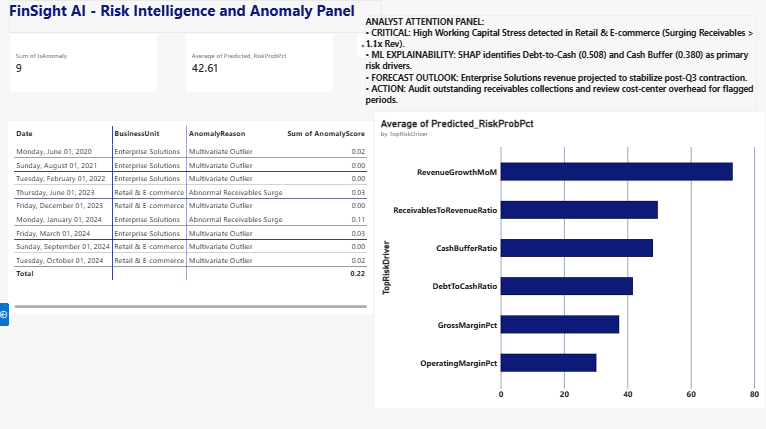

The dashboard page shown, as its layout file describes it:
{"tool":"powerbi","page":{"name":"Risk Intelligence and Analyst Decision Panel","canvas":[1920,1080],"ordinal":2},"visuals":[{"type":"textbox","box":[697.7,349.9,280,280],"z":0},{"type":"textbox","box":[28.1,0,931,82.1],"z":1000},{"type":"cardVisual","fields":{"Data":["Sum(finsight_master_analytics.IsAnomaly)"]},"box":[28.1,82.1,371.5,149],"z":2000},{"type":"cardVisual","fields":{"Data":["Avg(finsight_master_analytics.Predicted_RiskProbPct)"]},"box":[466.6,82.1,371.5,149],"z":3000},{"type":"textbox","box":[977.6,40.3,942.4,274.6],"z":4000},{"type":"tableEx","fields":{"Values":["finsight_master_analytics.Date","finsight_master_analytics.BusinessUnit","finsight_master_analytics.AnomalyReason","Sum(finsight_master_analytics.AnomalyScore)"]},"box":[50.4,315,810,699.8],"z":5000},{"type":"actionButton","box":[0,758.4,27.7,58],"z":7000},{"type":"clusteredBarChart","fields":{"Category":["finsight_master_analytics.TopRiskDriver"],"Y":["Avg(finsight_master_analytics.Predicted_RiskProbPct)"]},"box":[939.8,315,942,700],"z":7001}]}

Visuals, with their boxes in screenshot pixels (x1, y1, x2, y2), scaled from the page's 1920x1080 canvas onto the 766x429 screenshot:
textbox: {"left": 278, "top": 139, "right": 390, "bottom": 250}
textbox: {"left": 11, "top": 0, "right": 383, "bottom": 33}
cardVisual - Sum(finsight_master_analytics.IsAnomaly): {"left": 11, "top": 33, "right": 159, "bottom": 92}
cardVisual - Avg(finsight_master_analytics.Predicted_RiskProbPct): {"left": 186, "top": 33, "right": 334, "bottom": 92}
textbox: {"left": 390, "top": 16, "right": 765, "bottom": 125}
tableEx - finsight_master_analytics.Date x finsight_master_analytics.BusinessUnit: {"left": 20, "top": 125, "right": 343, "bottom": 403}
actionButton: {"left": 0, "top": 301, "right": 11, "bottom": 324}
clusteredBarChart - finsight_master_analytics.TopRiskDriver x Avg(finsight_master_analytics.Predicted_RiskProbPct): {"left": 375, "top": 125, "right": 751, "bottom": 403}
